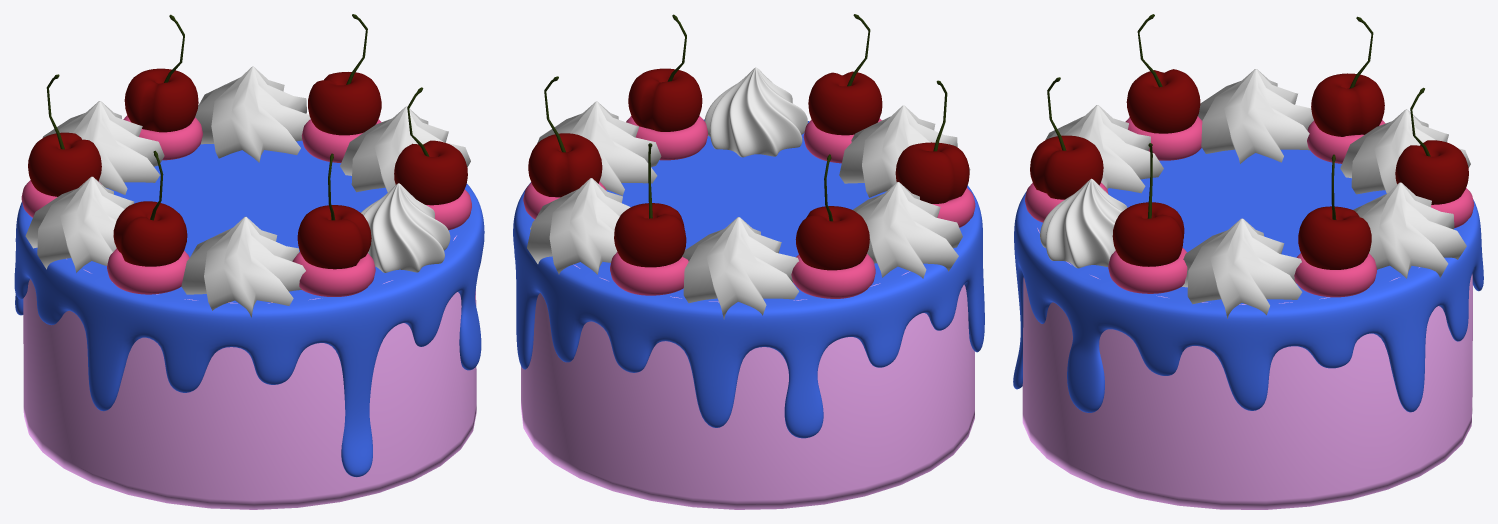
The model's file is torte1.glb.
3 views of the same model, side by side, from view 1: azimuth 30°, elevation 25°; view 2: azimuth 150°, elevation 25°; view 3: azimuth 270°, elevation 25° (orthographic).
Parts seen in each view (by area): view 1: Zylinder, Kreis, Kreis%2E004, Kreis%2E003, Kreis%2E006, Kreis%2E002, Kreis%2E001, Kreis%2E005, Kugel%2E003, Kugel%2E001, Kugel%2E002, Kugel%2E005 (+8 smaller); view 2: Zylinder, Kreis, Kreis%2E001, Kreis%2E006, Kreis%2E002, Kreis%2E003, Kreis%2E004, Kreis%2E005, Kugel%2E004, Kugel%2E006, Kugel%2E002, Kugel%2E001 (+8 smaller); view 3: Zylinder, Kreis, Kreis%2E005, Kreis%2E006, Kreis%2E003, Kreis%2E002, Kreis%2E004, Kreis%2E001, Kugel%2E003, Kugel%2E005, Kugel%2E006, Kugel%2E004 (+8 smaller).
Part boxes in pixels (x1,y1,x2,y2): Zylinder: (23, 235, 476, 509); Kreis: (14, 140, 484, 477); Kreis%2E004: (181, 216, 305, 317); Kreis%2E003: (195, 66, 310, 162); Kreis%2E006: (25, 176, 134, 272); Kreis%2E002: (361, 183, 450, 272); Kreis%2E001: (42, 101, 164, 194); Kreis%2E005: (340, 106, 470, 192); Kugel%2E003: (113, 201, 187, 266); Kugel%2E001: (297, 205, 371, 269); Kugel%2E002: (124, 68, 198, 132); Kugel%2E005: (308, 72, 381, 135); Zylinder: (521, 264, 974, 509); Kreis: (513, 119, 984, 438); Kreis%2E001: (682, 217, 798, 319); Kreis%2E006: (853, 182, 962, 278); Kreis%2E002: (704, 67, 807, 157); Kreis%2E003: (527, 178, 630, 274); Kreis%2E004: (839, 105, 970, 197); Kreis%2E005: (537, 101, 661, 195); Kugel%2E004: (795, 206, 869, 270); Kugel%2E006: (628, 68, 702, 131); Kugel%2E002: (614, 203, 686, 267); Kugel%2E001: (808, 71, 882, 135); Zylinder: (1022, 228, 1472, 509); Kreis: (1013, 148, 1483, 412); Kreis%2E005: (1182, 218, 1302, 318); Kreis%2E006: (1198, 69, 1313, 163); Kreis%2E003: (1353, 182, 1466, 278); Kreis%2E002: (1040, 178, 1127, 268); Kreis%2E004: (1045, 105, 1163, 193); Kreis%2E001: (1340, 109, 1470, 194); Kugel%2E003: (1126, 69, 1200, 133); Kugel%2E005: (1298, 206, 1371, 269); Kugel%2E006: (1112, 202, 1184, 266); Kugel%2E004: (1311, 73, 1384, 136).
Size of the model in its own units: 4.35 by 3.28 by 4.22.
